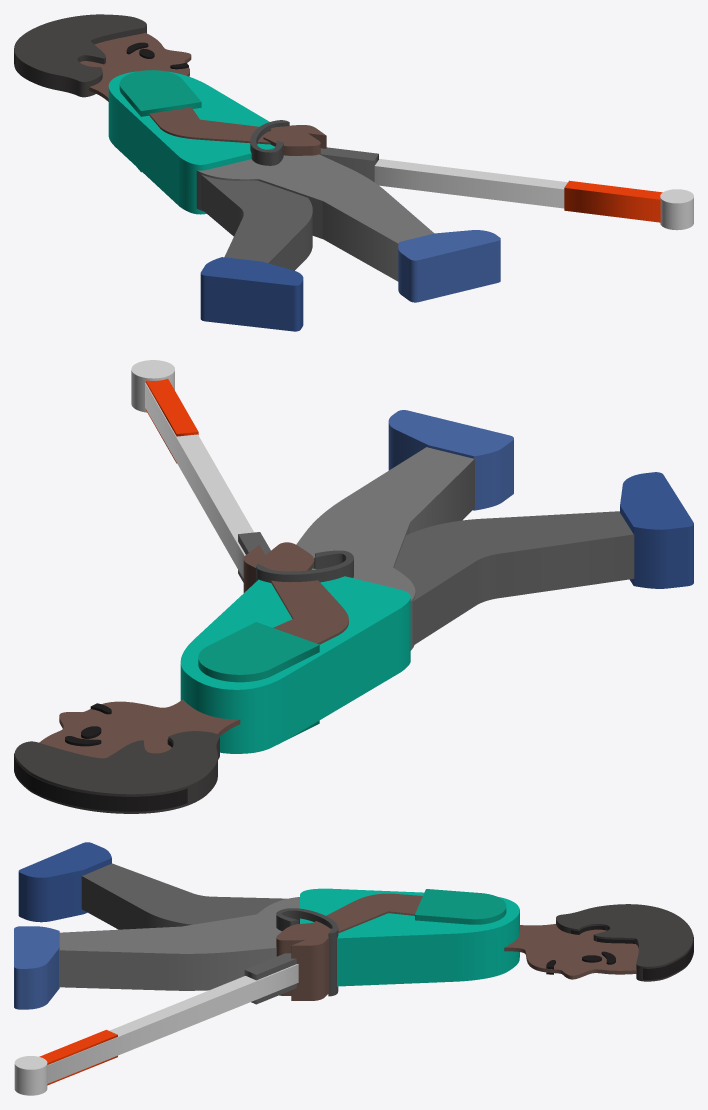
Rendered from emoji_u1f468_1f3ff_200d_1f9af_200d_27a1.glb.
3 renders of one model, top to bottom at view 1: azimuth 30°, elevation 25°; view 2: azimuth 150°, elevation 25°; view 3: azimuth 270°, elevation 25°, orthographic. The views are drawn at different scales.
Visible parts, largest first — view 1: emoji_u1f468_1f3ff_200d_1f9af_200d_27a1; view 2: emoji_u1f468_1f3ff_200d_1f9af_200d_27a1; view 3: emoji_u1f468_1f3ff_200d_1f9af_200d_27a1.
Boxes of the visible parts, x1=… form: emoji_u1f468_1f3ff_200d_1f9af_200d_27a1: x1=14, y1=14, x2=693, y2=331; emoji_u1f468_1f3ff_200d_1f9af_200d_27a1: x1=14, y1=360, x2=693, y2=813; emoji_u1f468_1f3ff_200d_1f9af_200d_27a1: x1=14, y1=842, x2=693, y2=1095.
Size of the model in its own units: 0.0253 by 0.0034 by 0.0333.
